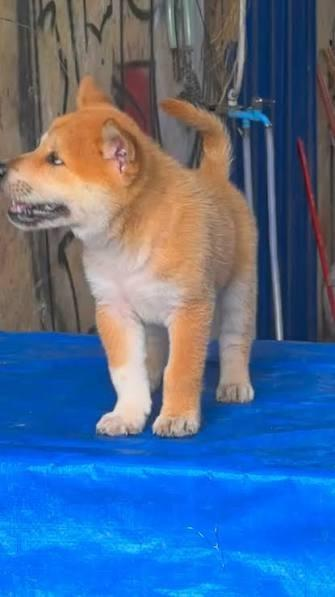puppy-dog: (0, 74, 260, 442)
